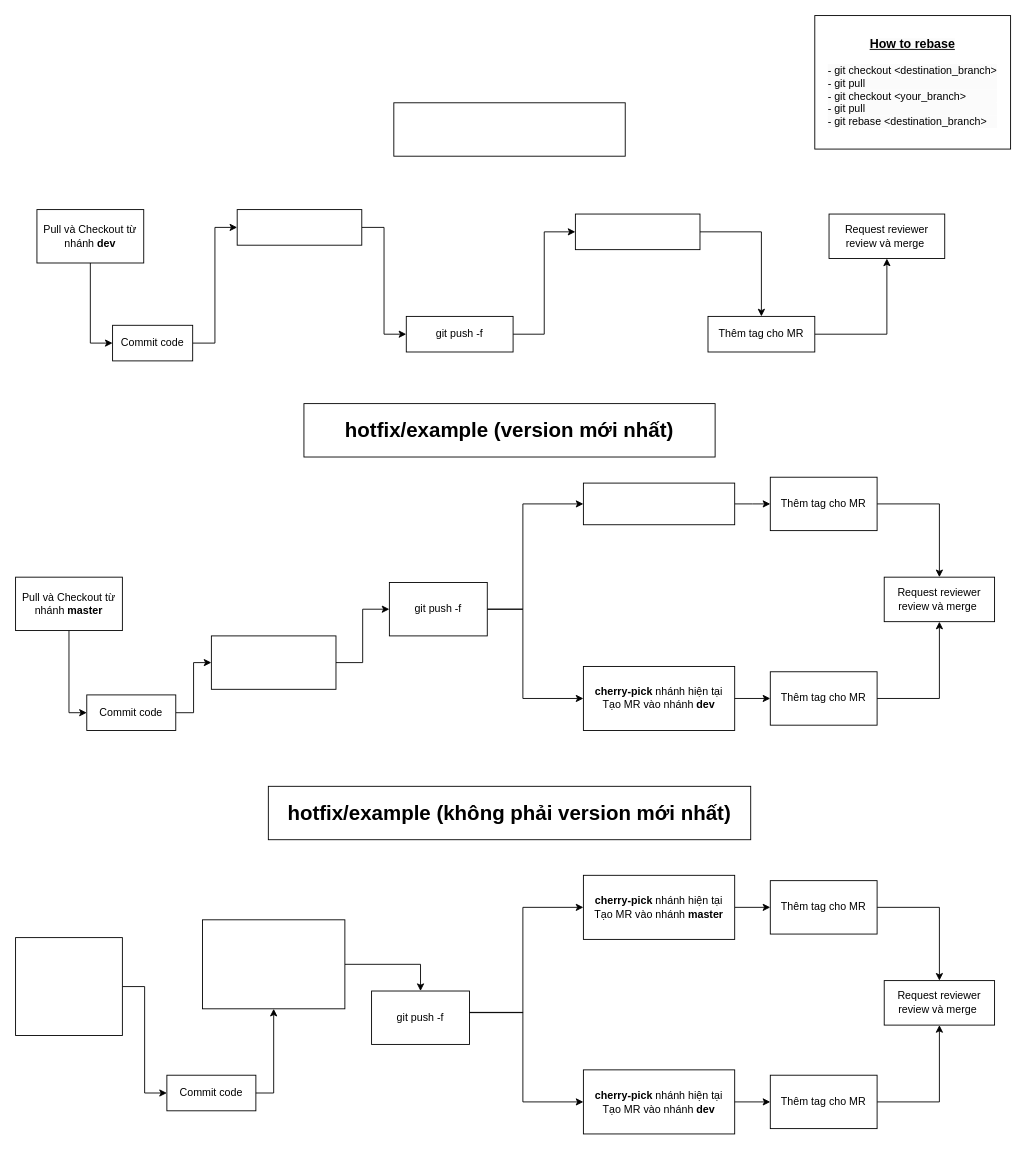
Image size: 1026x1150. Some labels were removed from this diagram. The shapes that lost their labels are listed below. From the top down, each one's box as (x1, y1, x2, y2) in pixels, then its label:
(393, 102, 625, 156): feature/example
(236, 209, 362, 245): rebase nhánh dev vào nhánh hiện tại
(574, 213, 700, 250): Tạo Merge Request
(583, 482, 735, 525): Tạo MR vào nhánh master
(210, 635, 336, 689): rebase nhánh master vào nhánh hiện tại
(202, 919, 345, 1009): rebase nhánh master (tại tag của version cần update) vào nhánh hiện tại
(15, 937, 122, 1036): Pull và Checkout từ nhánh master (tại tag của version cần update)
